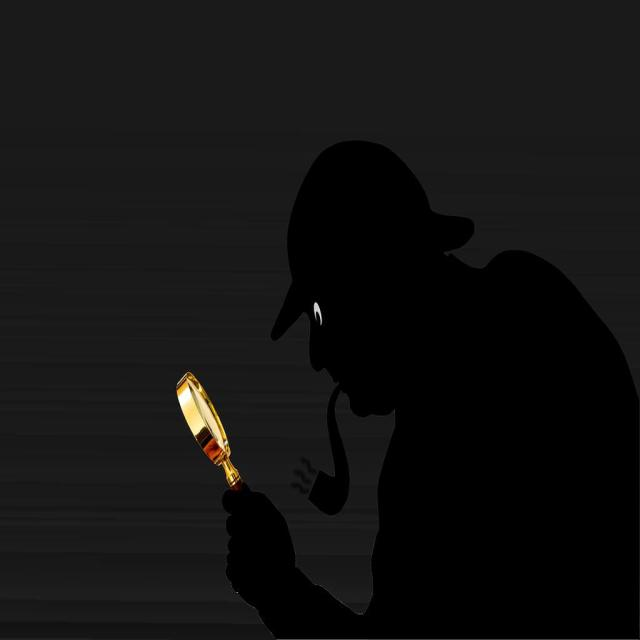smoking: (270, 86, 452, 512)
